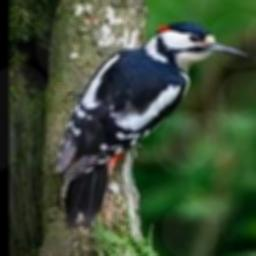Woodpecker: (53, 22, 248, 228)
